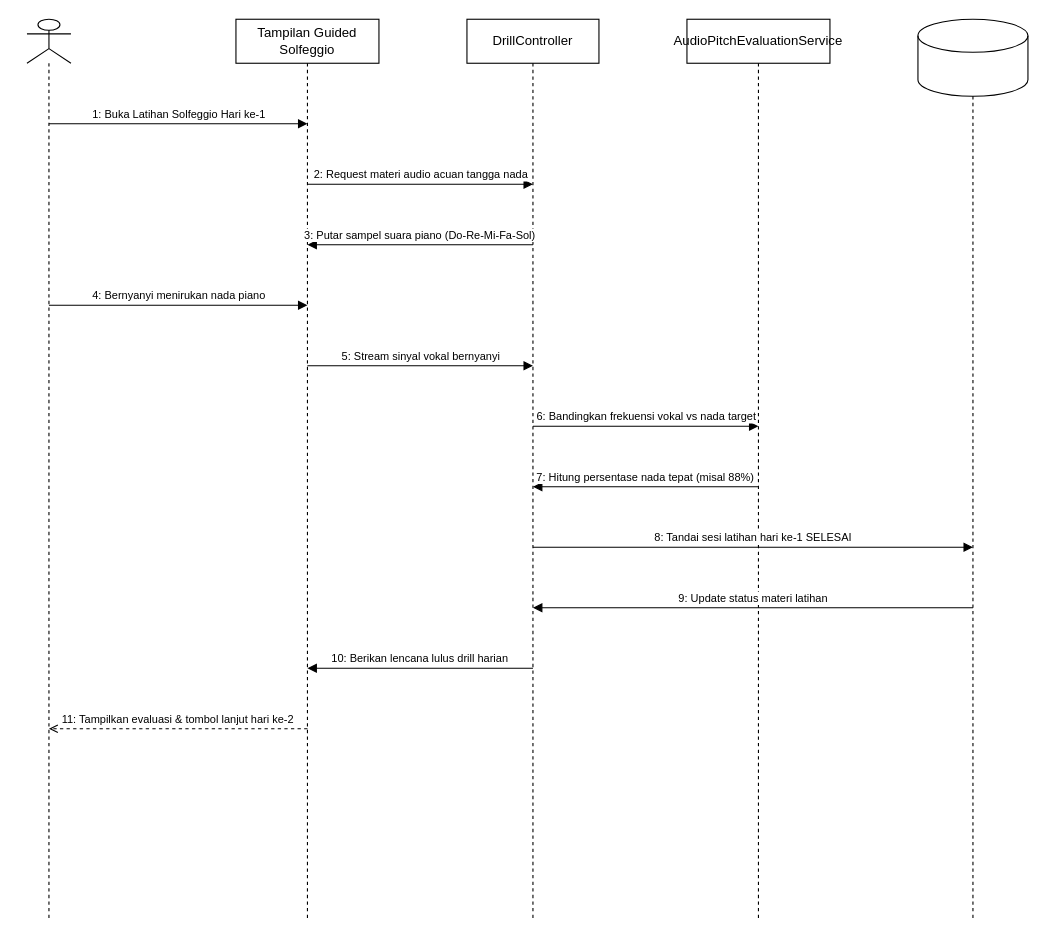
This 1047x942 diagram has some shape labels left out. The box of each missing label's shape, as (x1, y1, x2, y2) in pixels:
<<Database>> CurriculumDB: (917, 18, 1028, 96)
Pengguna: (26, 18, 71, 921)
